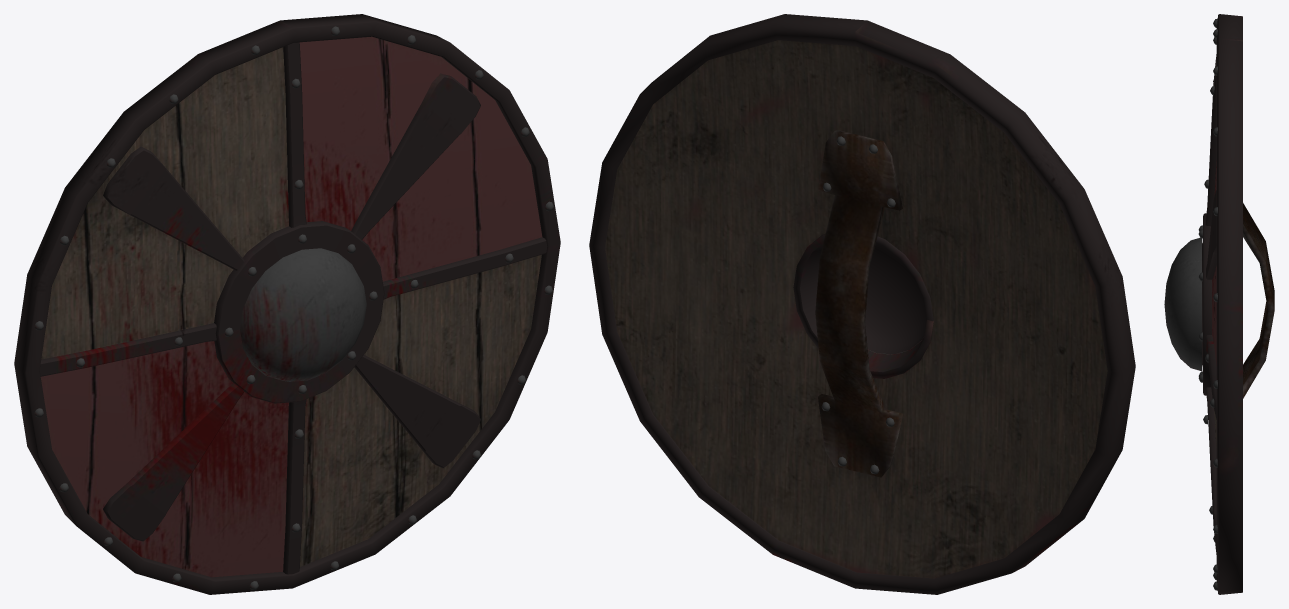
The model's file is vikings_shield_2017_old_version.glb.
The picture shows the model from 3 angles, left to right: view 1: azimuth 30°, elevation 25°; view 2: azimuth 150°, elevation 25°; view 3: azimuth 270°, elevation 25°; orthographic projection. The views are drawn at different scales.
Parts seen in each view (by area): view 1: g; view 2: g; view 3: g.
Part boxes in pixels (box(x1,y1,x2,y2)): g: box(14, 14, 560, 594); g: box(589, 14, 1135, 594); g: box(1164, 14, 1274, 594).
Size of the model in its own units: 2 by 2 by 0.3761.
Materials: 1 (1 with a texture image).
